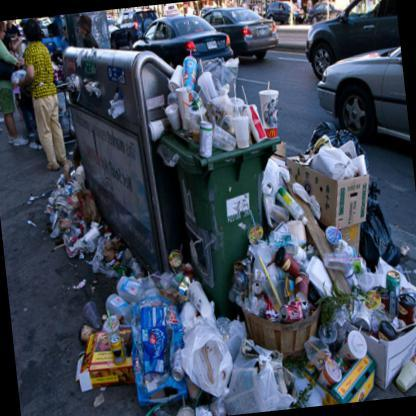Garbage: (222, 190, 404, 412), (62, 280, 243, 415), (264, 136, 380, 310), (318, 278, 415, 398), (46, 181, 104, 280), (88, 236, 139, 288)
